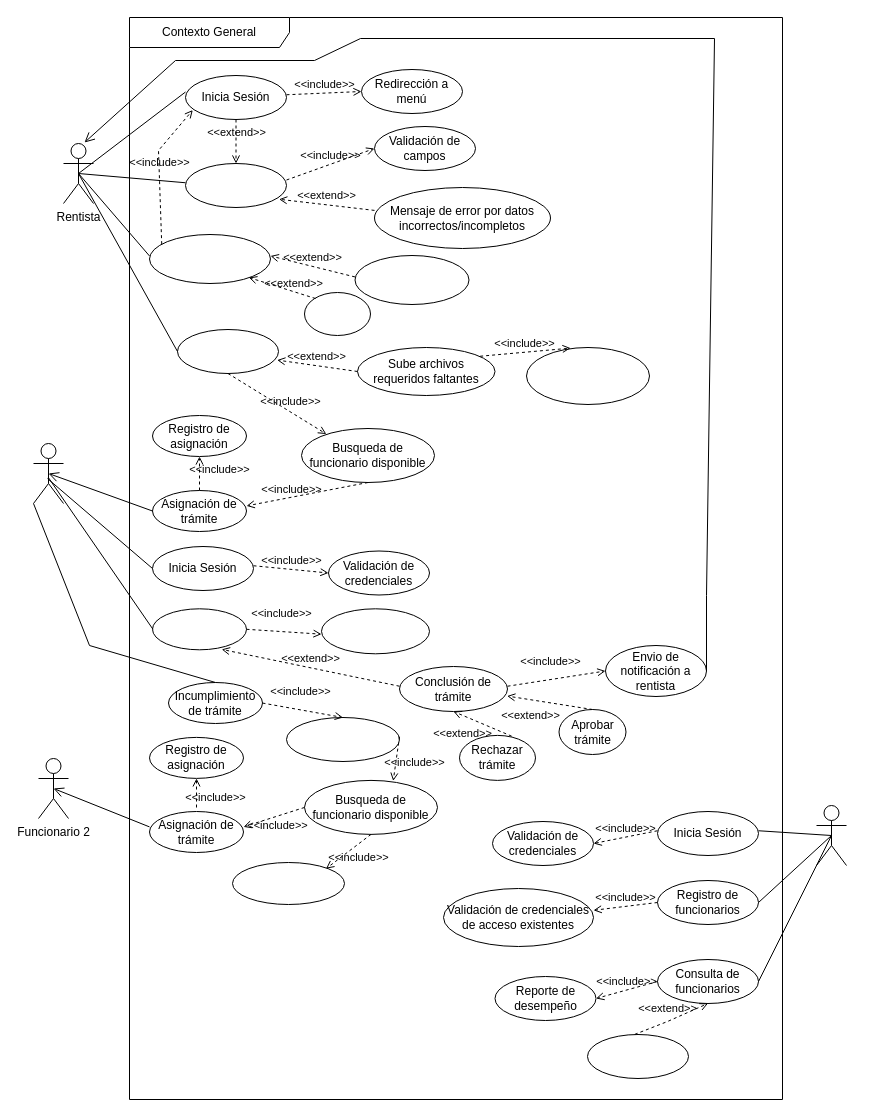
The diagram is 870 pixels wide and 1117 high, and some of its shapes have lost their labels. The shapes that lost their labels are listed below. From the top down, each one's centre as x and y in pixels, then its label:
(x=235, y=185): Registro en sistema
(x=209, y=259): Consultar información personal
(x=411, y=279): Consultar trámites activos
(x=337, y=314): Consultar archivos
(x=227, y=351): Solicita trámite
(x=588, y=375): Guardado de archivo en base de datos
(x=48, y=473): Funcionario
(x=199, y=629): Revisión de trámite
(x=375, y=631): Recuperación de documentos
(x=343, y=739): Registro de incumplimiento
(x=831, y=835): Gerente
(x=288, y=883): Trámite pasa a estado urgente
(x=637, y=1056): Descarga de reporte
